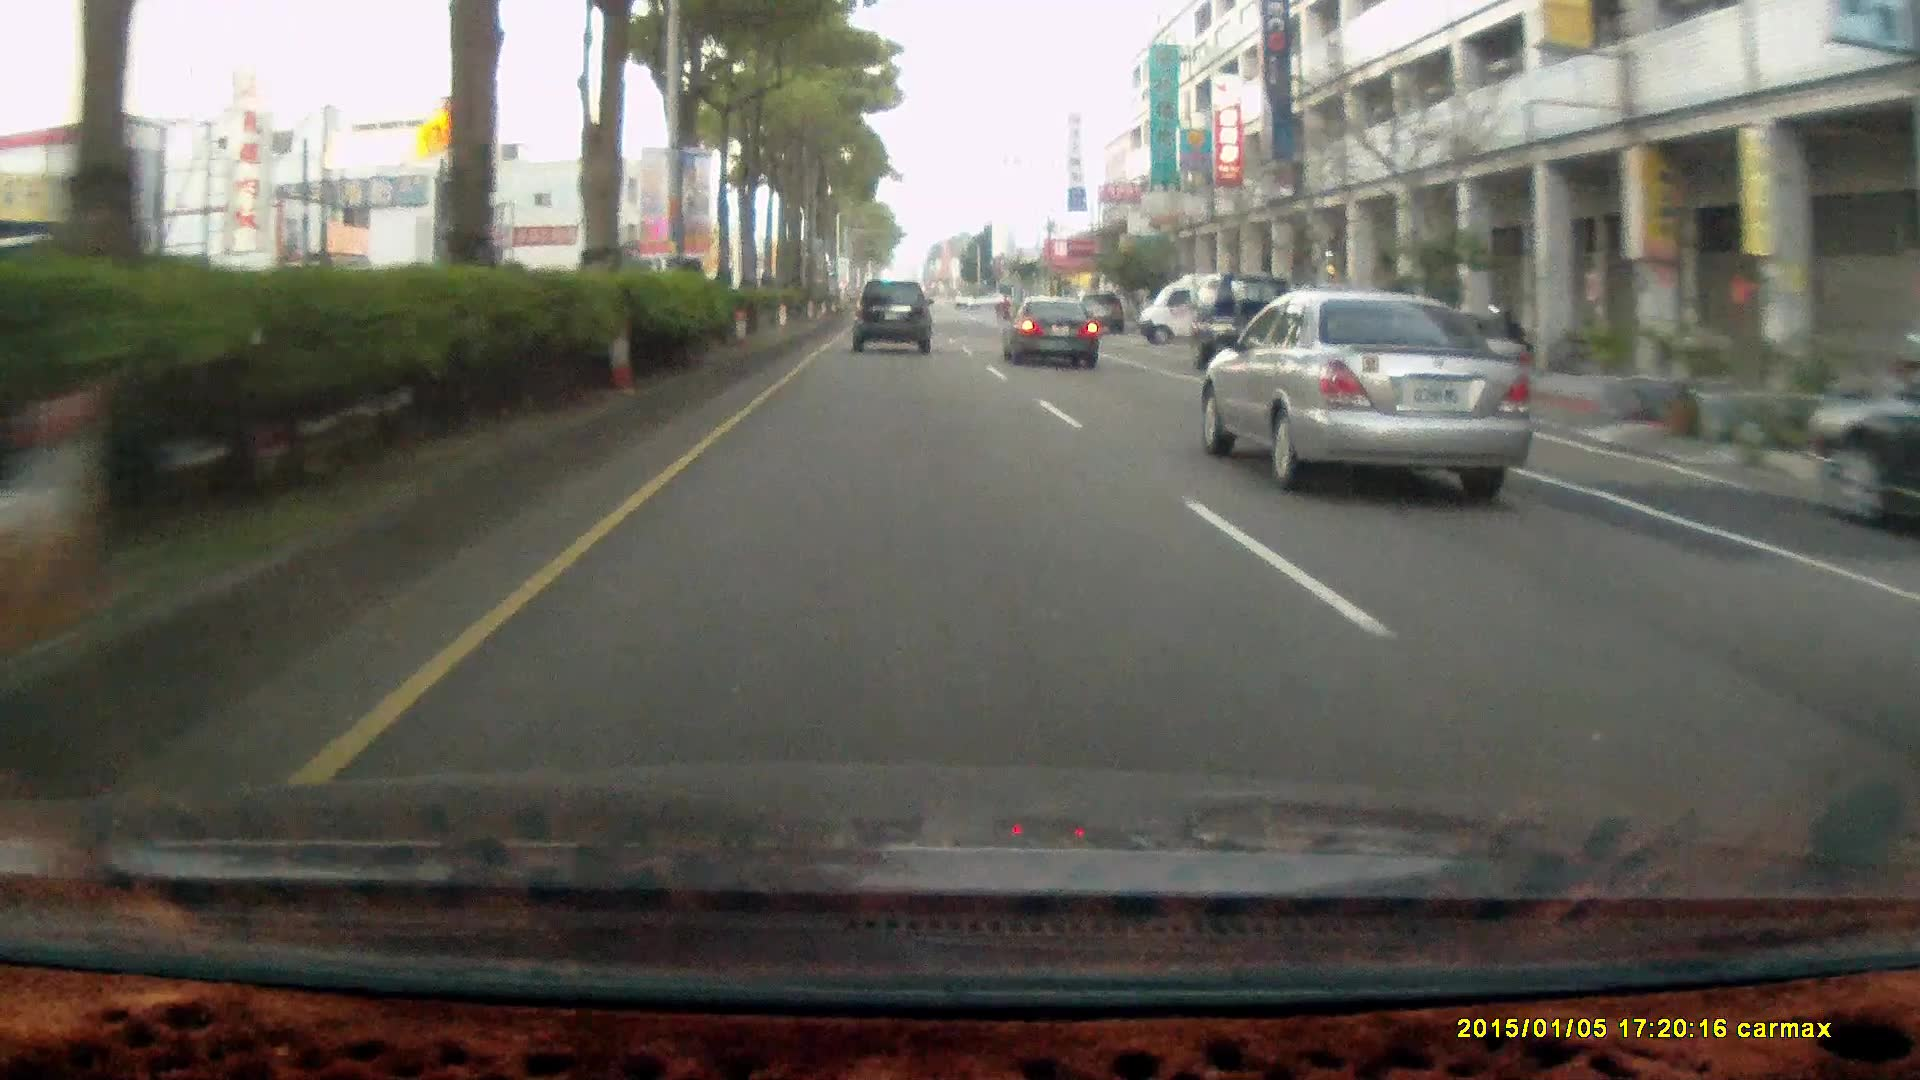vehicle: (1196, 287, 1528, 487), (1345, 306, 1527, 413), (1807, 381, 1920, 538), (1211, 276, 1335, 392), (1191, 274, 1312, 375), (1139, 270, 1276, 349), (1137, 273, 1274, 345), (1001, 295, 1102, 371), (1001, 290, 1097, 363), (851, 280, 936, 357), (849, 280, 931, 352), (1071, 289, 1125, 334)
